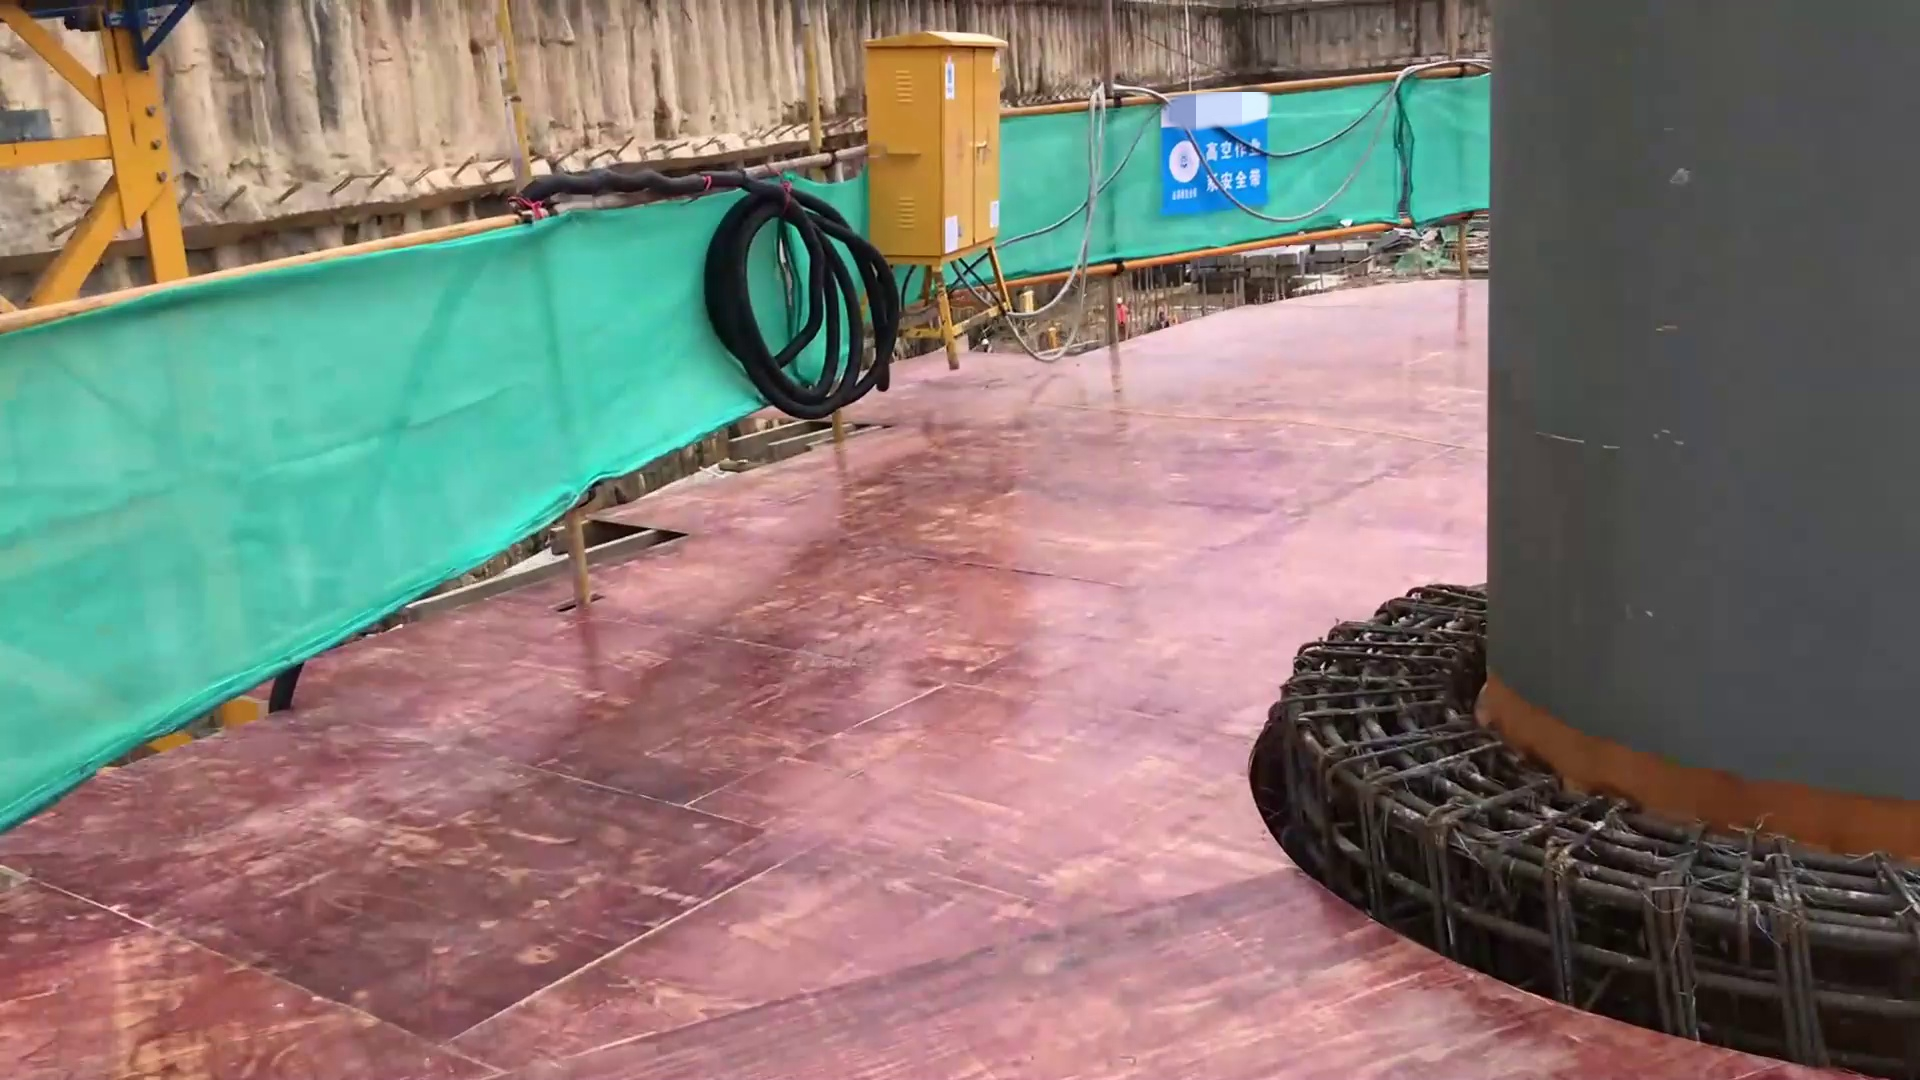ebox: (866, 28, 1004, 248)
slogan: (1188, 144, 1286, 204)
